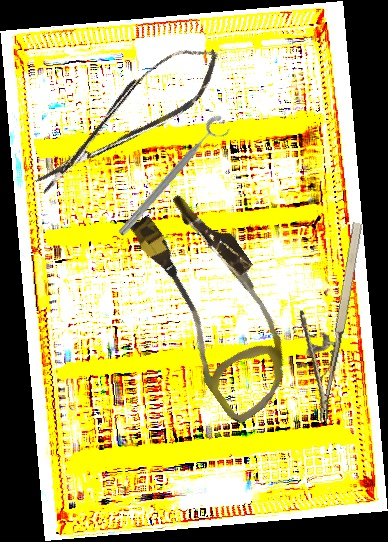Cannula: (107, 181, 324, 428)
Fixation Ring: (114, 111, 235, 246)
Micro Scissor: (20, 32, 233, 205)
Needle Holder: (278, 215, 369, 424)
